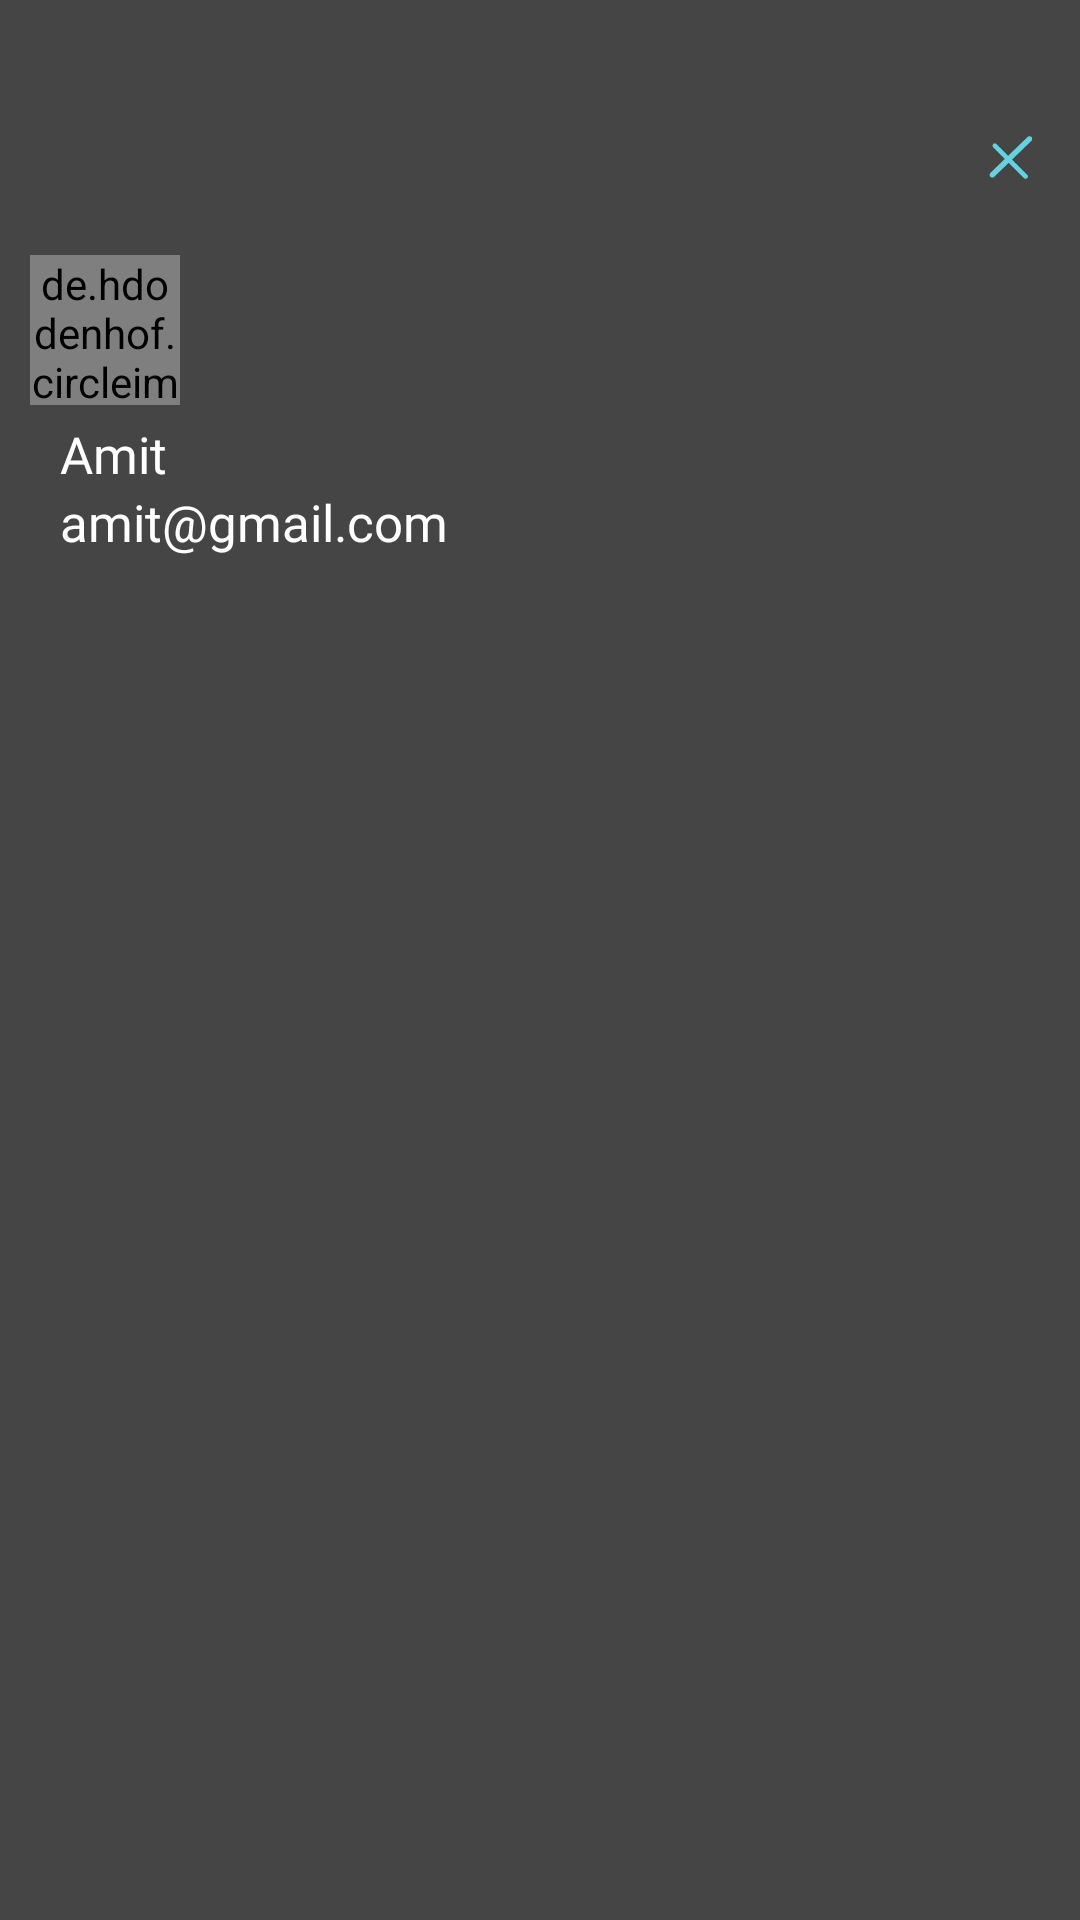

Where icons sit on this 1080×1920 app screen, as (left=x1, top=y1, right=x2, bottom=y2):
cancel: (left=989, top=136, right=1032, bottom=179)
